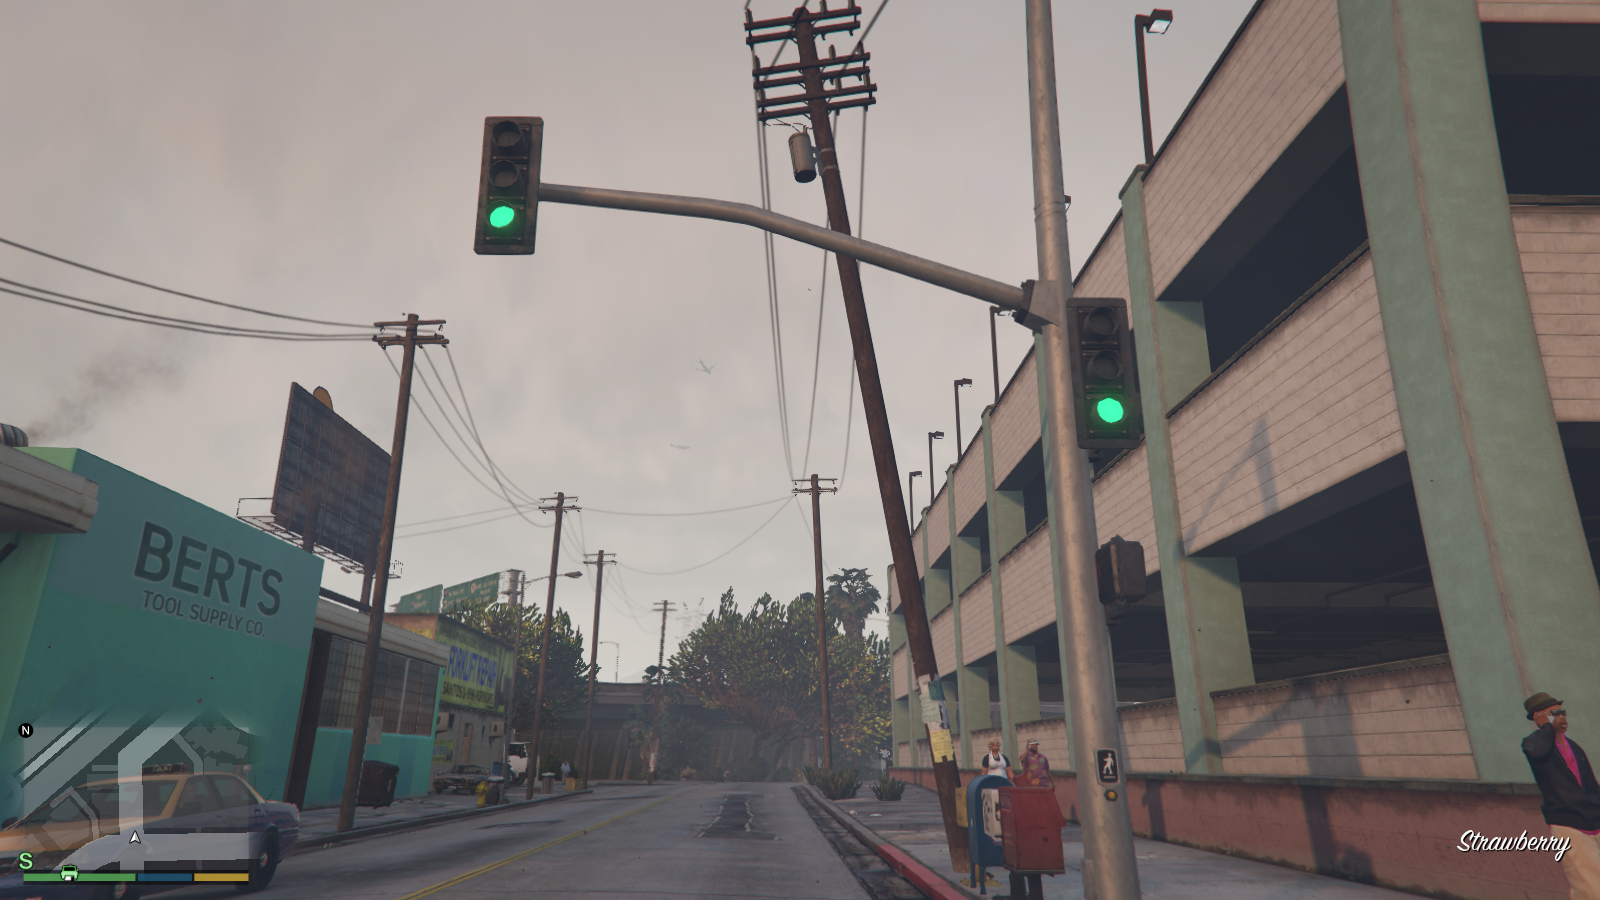green: (1062, 295, 1147, 452), (471, 114, 548, 259)
